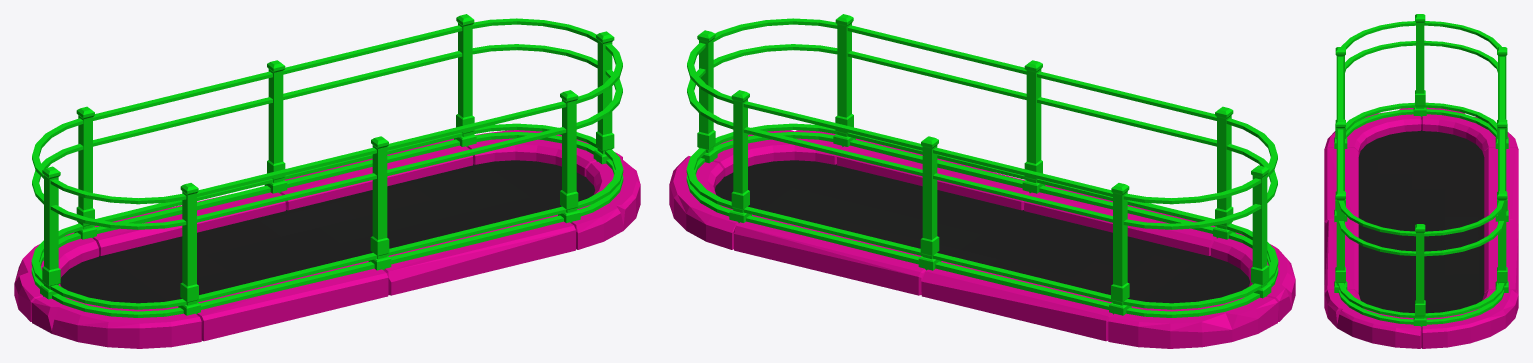
The model's file is City_Fence14.fbx.
The picture shows the model from 3 angles, left to right: view 1: azimuth 30°, elevation 25°; view 2: azimuth 150°, elevation 25°; view 3: azimuth 270°, elevation 25°; orthographic projection. The views are drawn at different scales.
Parts seen in each view (by area): view 1: SM_City_Fence_05_02b.mo; view 2: SM_City_Fence_05_02b.mo; view 3: SM_City_Fence_05_02b.mo.
Boxes of the visible parts, x1=… form: SM_City_Fence_05_02b.mo: x1=14, y1=14, x2=640, y2=348; SM_City_Fence_05_02b.mo: x1=669, y1=14, x2=1295, y2=348; SM_City_Fence_05_02b.mo: x1=1324, y1=14, x2=1518, y2=348.
Bounding box in the file's own units: 412 × 99.47 × 150.
